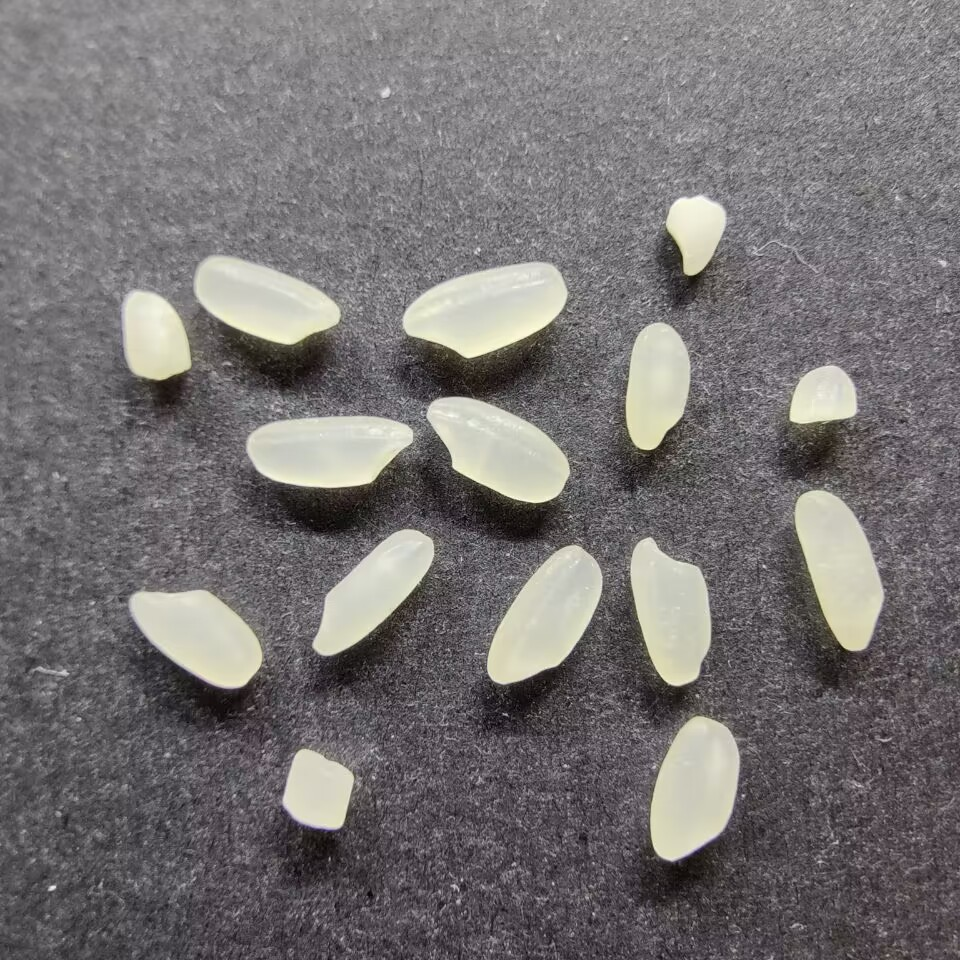broken: (118, 287, 194, 383), (278, 747, 355, 830), (663, 194, 730, 277), (788, 361, 857, 425)
rice: (400, 260, 569, 361), (483, 545, 604, 686), (307, 527, 438, 657), (423, 395, 571, 505), (791, 488, 886, 655), (191, 252, 343, 348), (125, 587, 266, 690), (646, 713, 742, 862), (628, 535, 714, 689), (245, 412, 417, 489), (623, 320, 693, 453)
